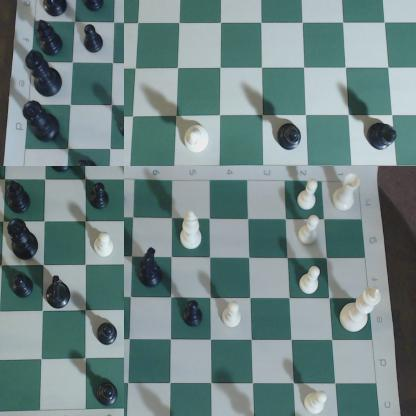black-bishop: (3, 174, 35, 218), (34, 21, 68, 57), (365, 122, 399, 155), (277, 122, 302, 153)
black-king: (23, 48, 66, 98)
black-knight: (136, 245, 168, 293), (46, 276, 73, 310), (41, 1, 71, 17), (50, 167, 80, 178)
black-pawn: (89, 180, 114, 213), (82, 25, 107, 57), (97, 378, 121, 410), (184, 299, 208, 331), (13, 272, 36, 303), (97, 319, 117, 344), (81, 1, 110, 15), (74, 153, 103, 166), (116, 111, 124, 142)
black-queen: (5, 215, 47, 265), (20, 102, 65, 142)
white-bishop: (179, 209, 204, 253), (180, 124, 212, 156)
white-king: (338, 287, 386, 332)
white-pawn: (92, 229, 121, 264), (297, 264, 324, 298), (297, 176, 323, 211), (222, 299, 247, 331), (298, 216, 322, 245)
white-rook: (334, 171, 362, 214), (299, 389, 334, 416)
